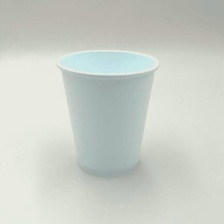paper_cup: (49, 45, 164, 183)
